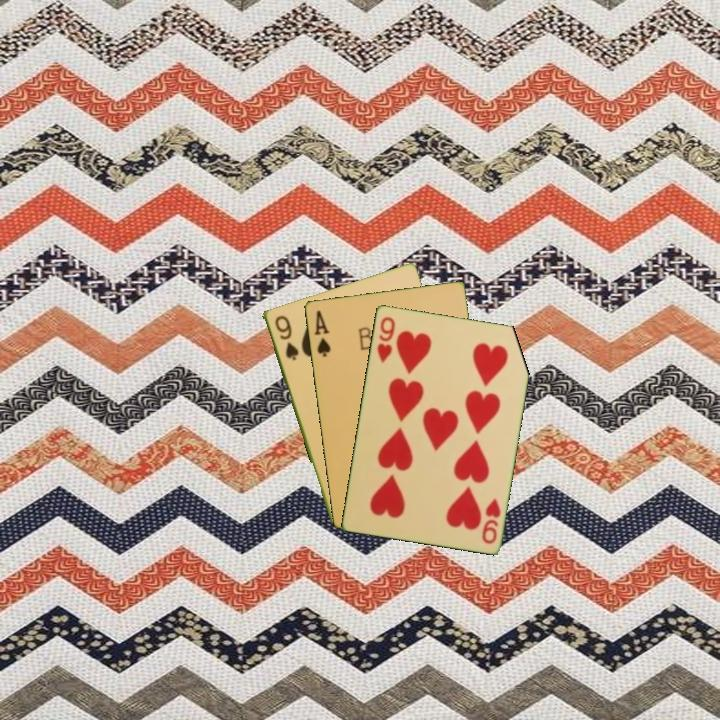9h: (373, 313, 398, 365), (478, 494, 503, 546)
9s: (271, 312, 301, 363)
As: (310, 306, 333, 359)
